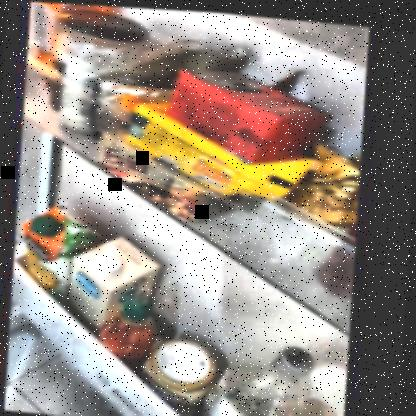butter: (92, 104, 256, 221)
milk: (76, 233, 161, 298)
